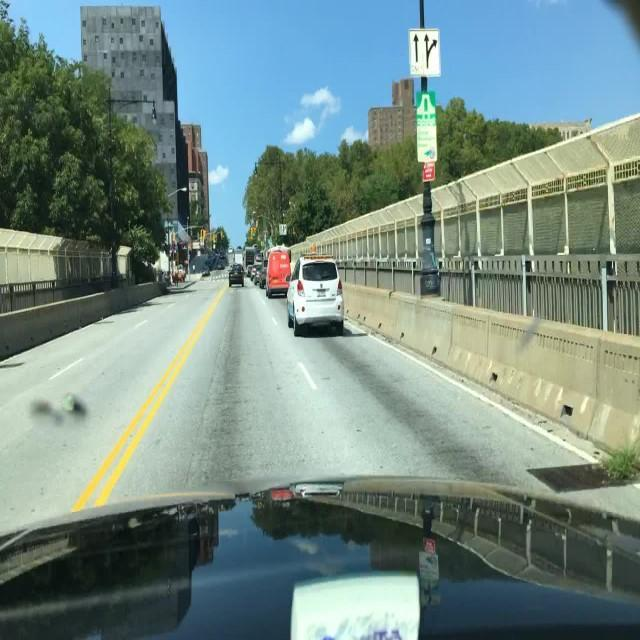normal: (284, 256, 343, 333), (229, 266, 245, 288)
